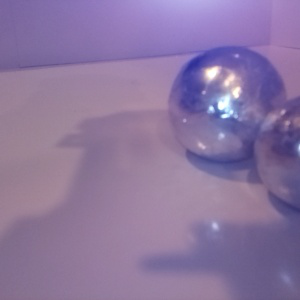alive_ball: (168, 45, 287, 163), (254, 96, 300, 209)
